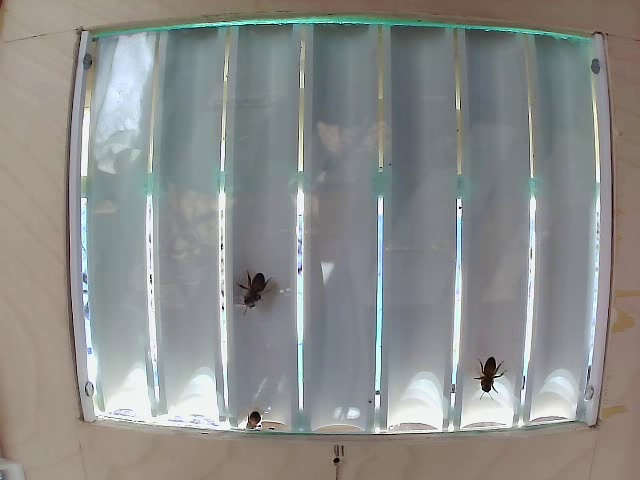bee: (239, 266, 272, 312)
